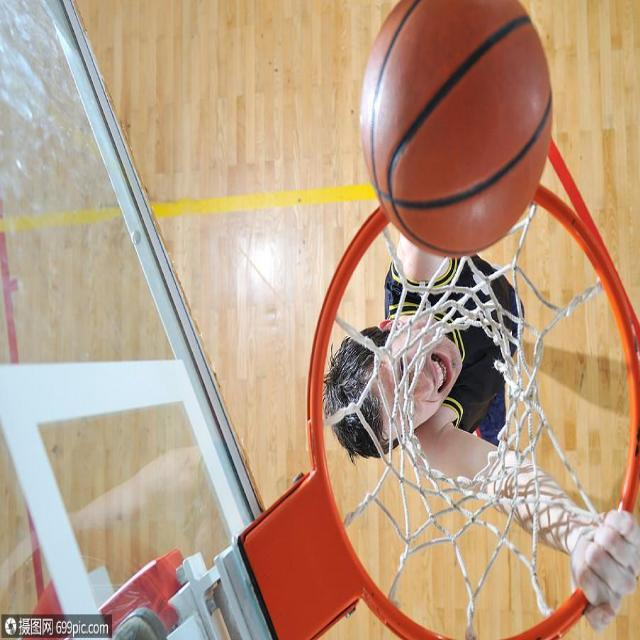rim: (360, 0, 552, 253)
